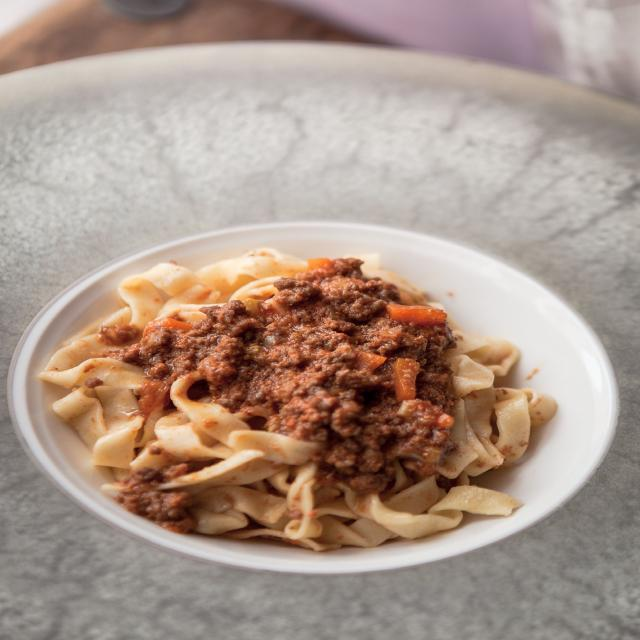Pasta al ragu: (54, 227, 565, 555)
